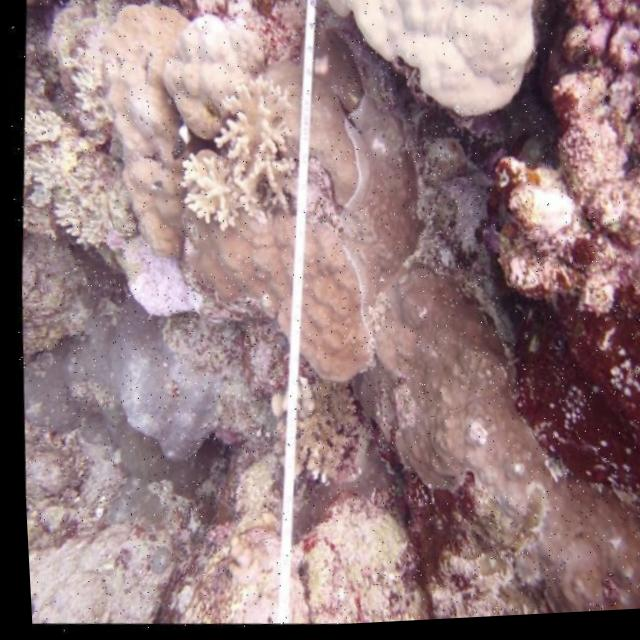Bleached Coral: (319, 0, 558, 143), (177, 85, 284, 209), (178, 0, 241, 72)
